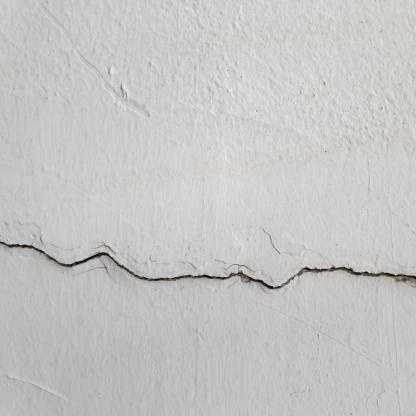crack: (1, 241, 415, 290)
